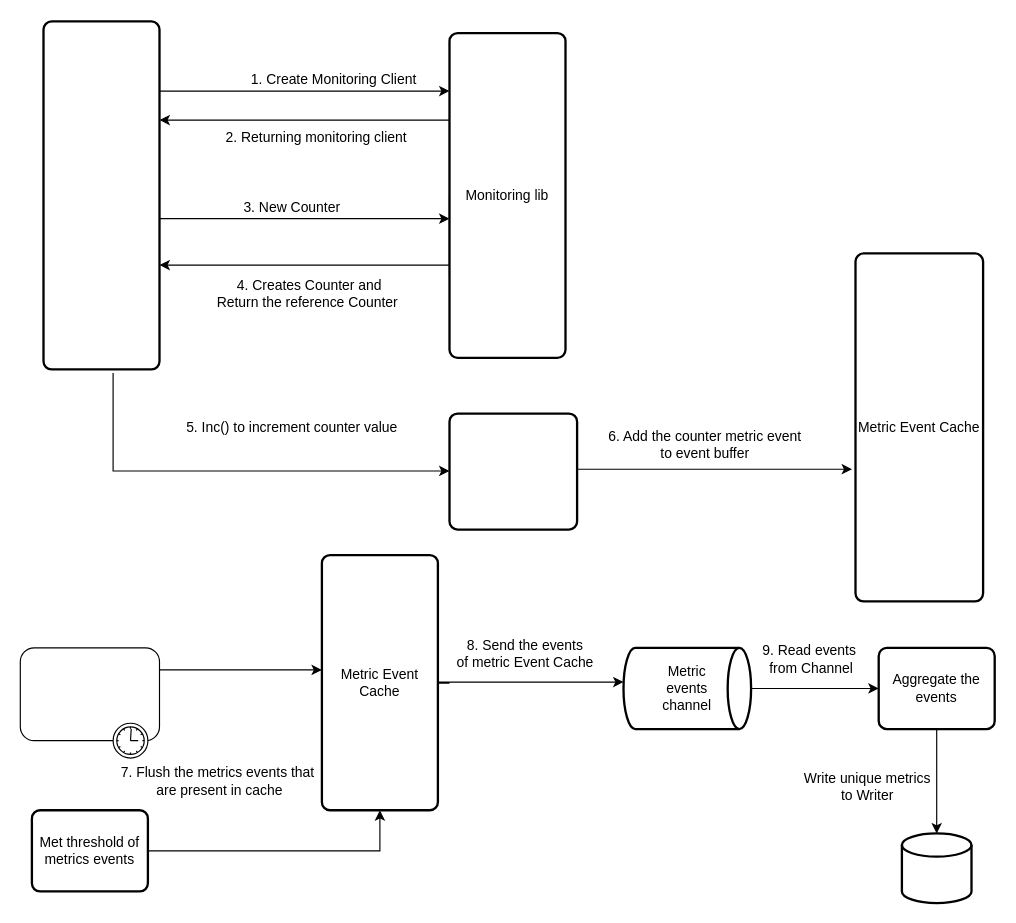
The diagram is 1016 pixels wide and 923 high, and some of its shapes have lost their labels. The centre of each missing label's shape, as x and y in pixels:
"Application" belongs at [101,195].
"Counter" belongs at [513,471].
"Time ticker" belongs at [89,694].
